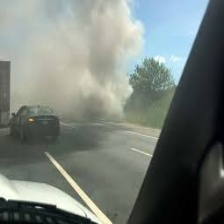smoke: (24, 7, 130, 103)
